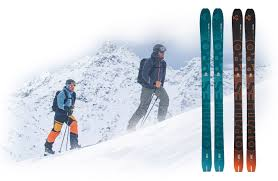skis: (231, 8, 259, 172), (198, 6, 223, 174), (44, 136, 112, 157)
